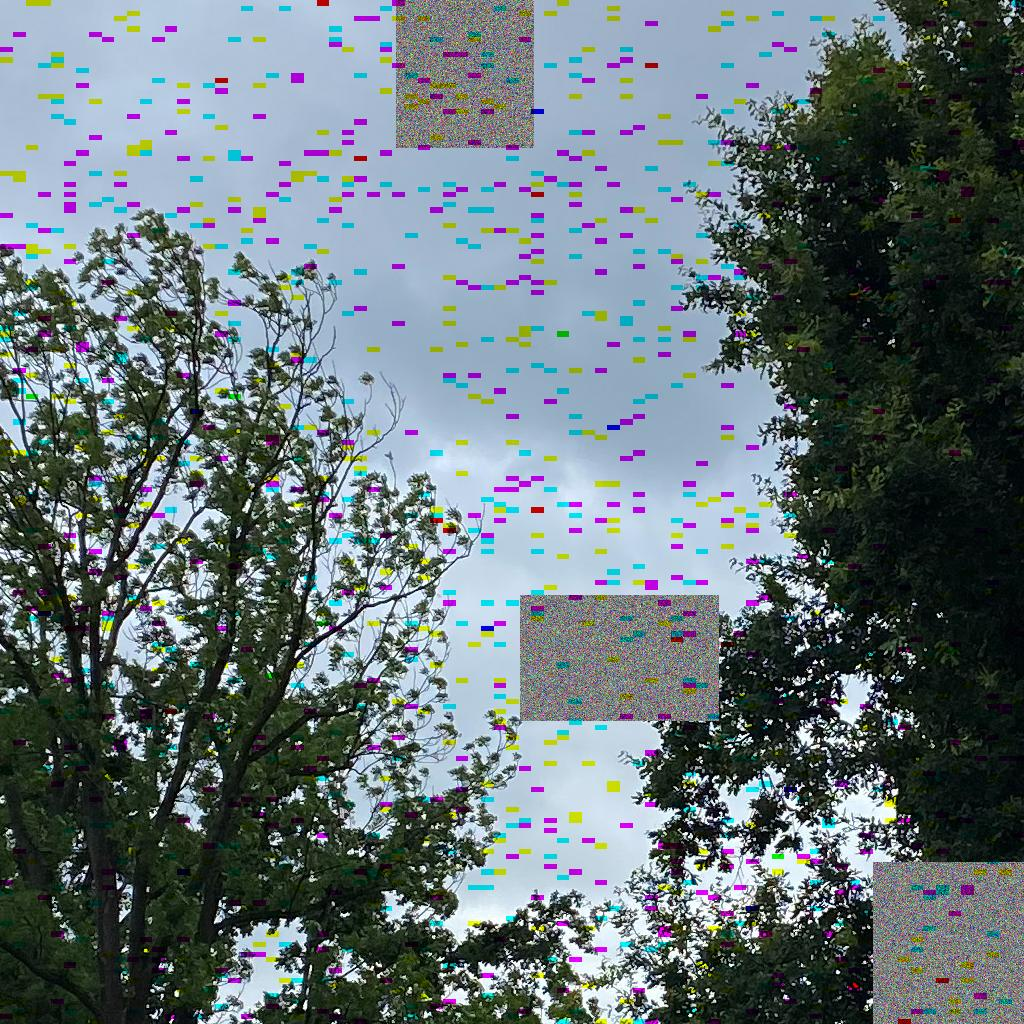tree: (1, 206, 525, 1023), (615, 1, 1023, 1021)
